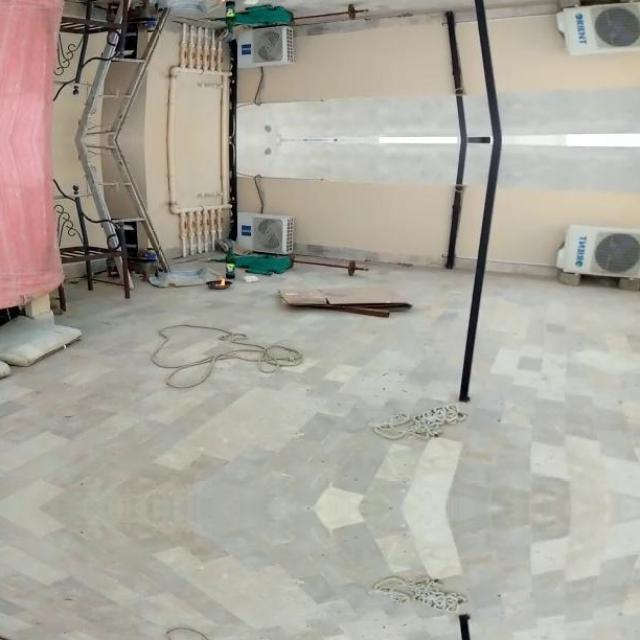smoke: (216, 272, 226, 288), (217, 0, 227, 7)
